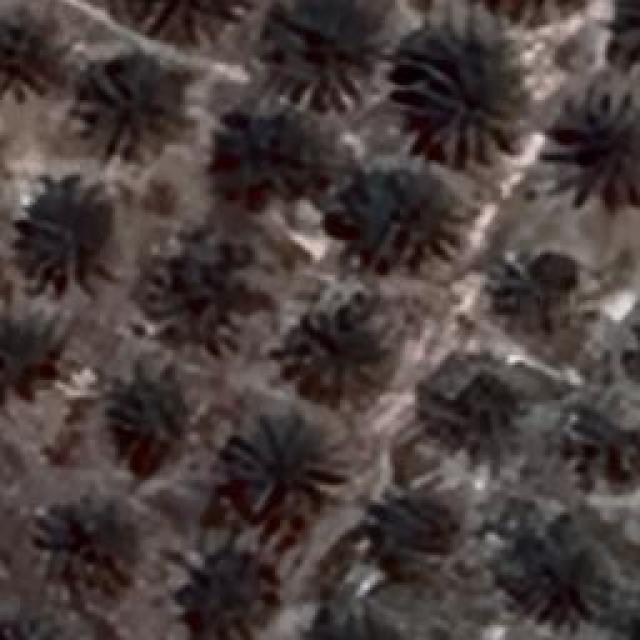PalmTree: (28, 22, 626, 78), (415, 45, 525, 160), (496, 524, 616, 628), (156, 226, 254, 349), (230, 419, 332, 529), (82, 62, 196, 160), (282, 302, 396, 400), (340, 169, 445, 269), (272, 12, 372, 112), (42, 502, 132, 612), (362, 485, 458, 583), (18, 182, 112, 280), (426, 372, 519, 460), (180, 557, 277, 640), (500, 262, 585, 350), (555, 402, 640, 490), (226, 112, 314, 196), (565, 97, 640, 195), (109, 376, 189, 466), (0, 310, 55, 412), (0, 10, 60, 90), (297, 602, 405, 640), (466, 0, 594, 24), (0, 614, 73, 640), (621, 306, 640, 396), (619, 0, 640, 74), (1, 620, 76, 640)
